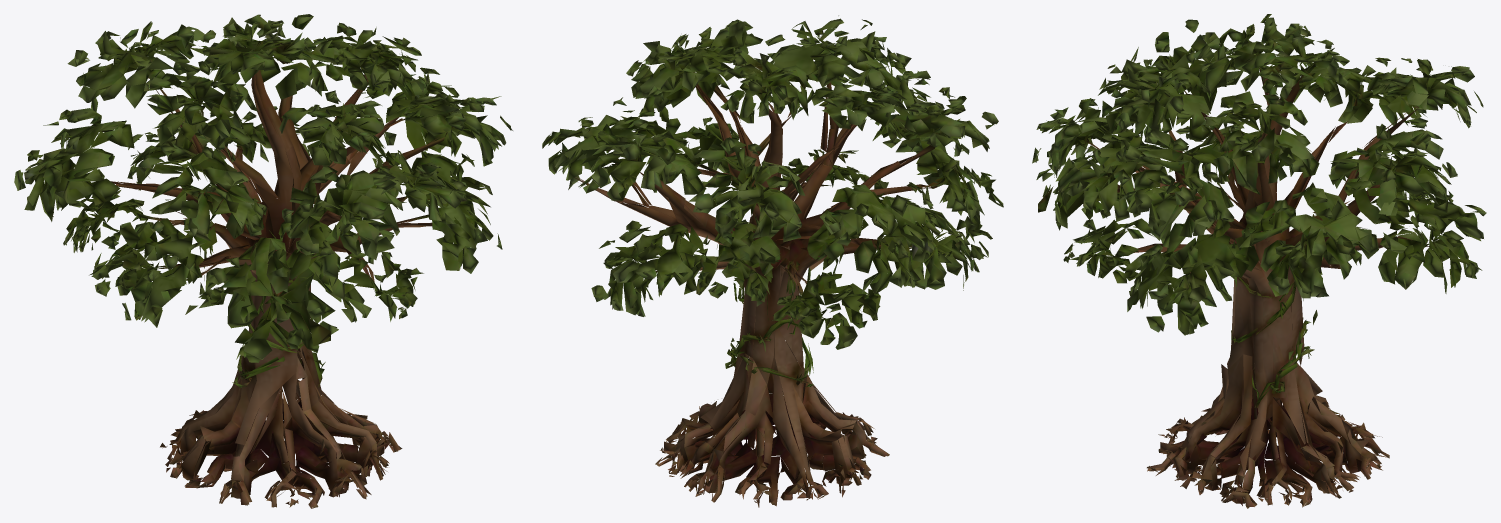
File: jun_kapok_tree_buttress_LOD1.glb
The picture shows the model from 3 angles, left to right: view 1: azimuth 30°, elevation 25°; view 2: azimuth 150°, elevation 25°; view 3: azimuth 270°, elevation 25°; orthographic projection. The views are drawn at different scales.
Parts seen in each view (by area): view 1: tripo_node_eeae2858-041e-427f-a393-b277f6530104; view 2: tripo_node_eeae2858-041e-427f-a393-b277f6530104; view 3: tripo_node_eeae2858-041e-427f-a393-b277f6530104.
Part boxes in pixels (<box>): tripo_node_eeae2858-041e-427f-a393-b277f6530104: <box>14,14,512,508</box>; tripo_node_eeae2858-041e-427f-a393-b277f6530104: <box>542,15,1003,507</box>; tripo_node_eeae2858-041e-427f-a393-b277f6530104: <box>1032,14,1486,508</box>.
Bounding box in the file's own units: 1 × 0.9958 × 0.9878.
Materials: 1 (1 with a texture image).
